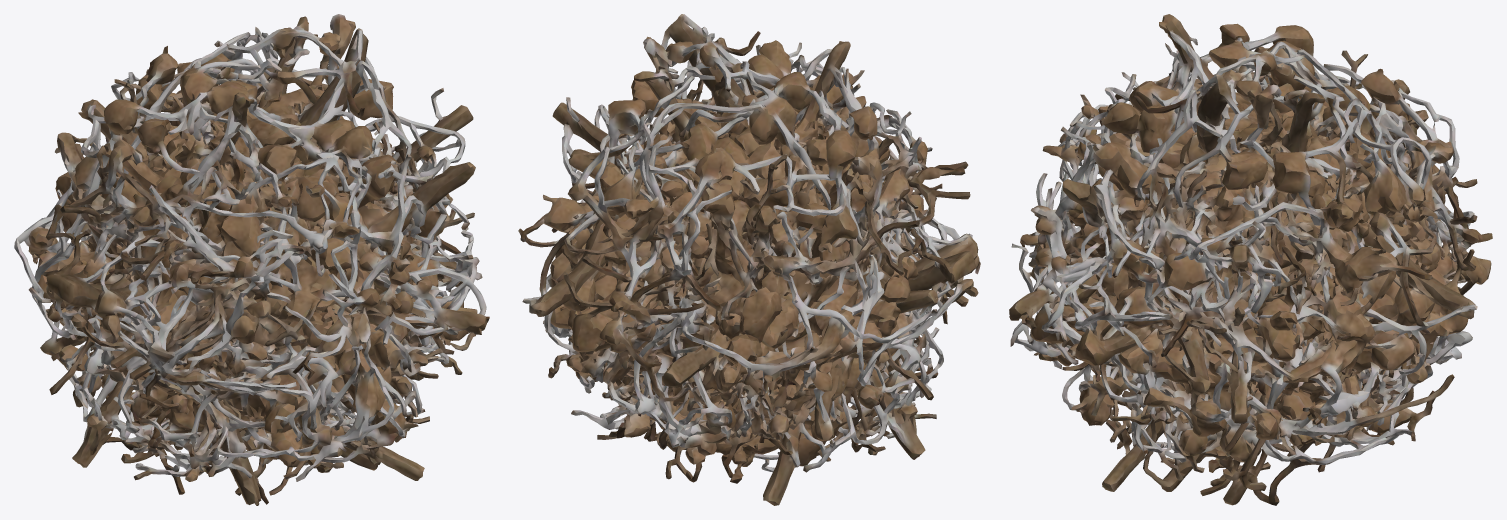
File: mycelium-network-v18.glb
3 renders of one model, left to right at view 1: azimuth 30°, elevation 25°; view 2: azimuth 150°, elevation 25°; view 3: azimuth 270°, elevation 25°, orthographic. The views are drawn at different scales.
Visible parts, largest first — view 1: geometry_0; view 2: geometry_0; view 3: geometry_0.
Part boxes in pixels (x1=…): geometry_0: x1=14, y1=14, x2=489, y2=505; geometry_0: x1=518, y1=14, x2=980, y2=505; geometry_0: x1=1009, y1=14, x2=1492, y2=505.
Bounding box in the file's own units: 0.15 × 0.15 × 0.1481.
1 material, 1 textured.
